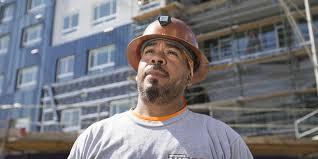hard hat: (126, 16, 209, 85)
